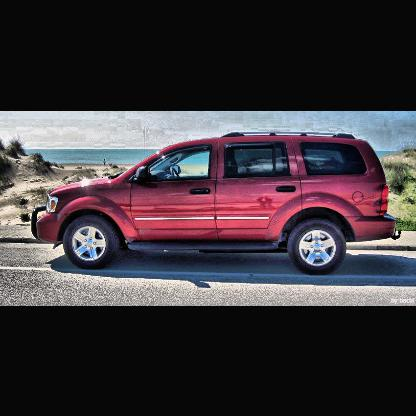Dodge Durango SUV 2007: (33, 132, 402, 276)
